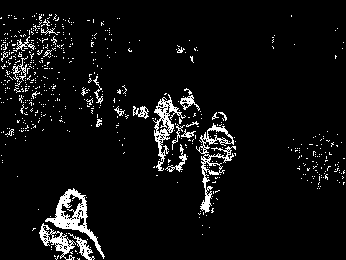person: (202, 110, 237, 216), (178, 88, 201, 179), (154, 92, 178, 173), (83, 72, 107, 132)
